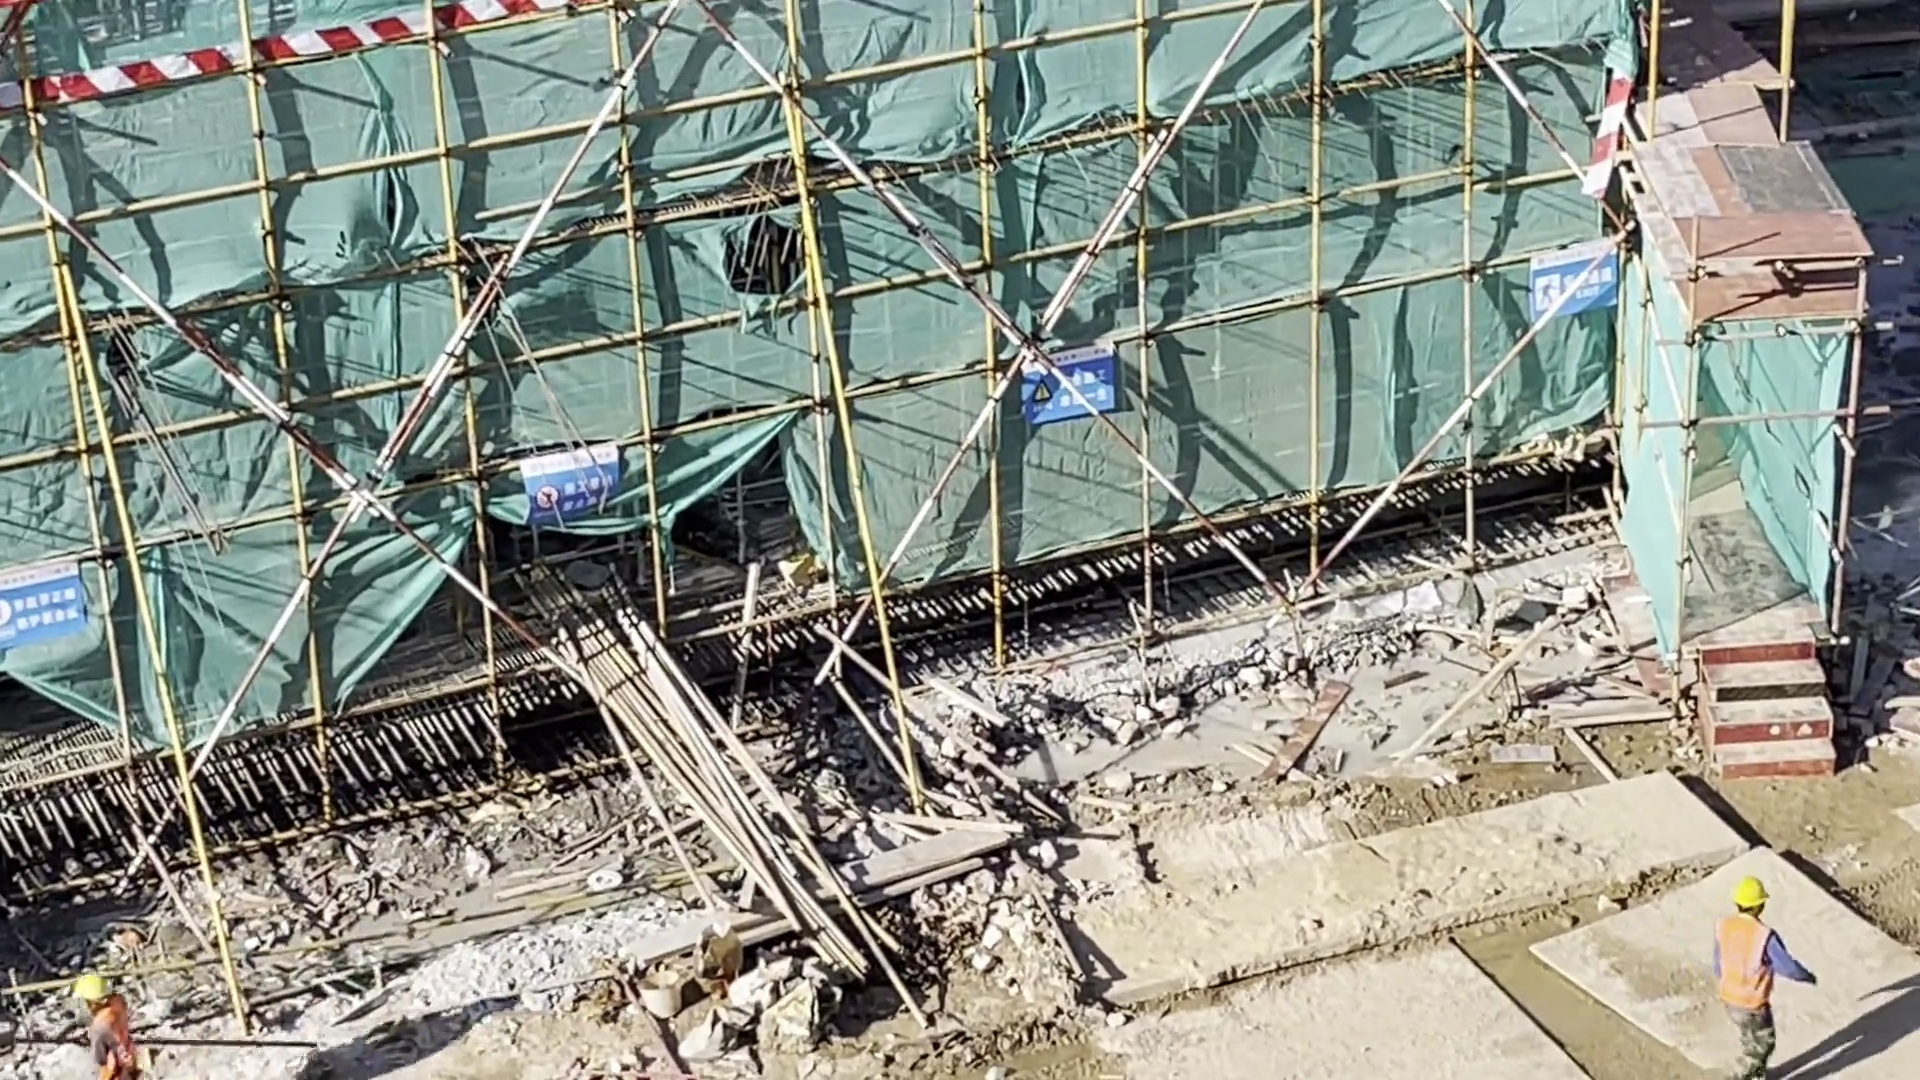helmet: (1719, 864, 1785, 920), (67, 958, 123, 1008)
person: (1696, 860, 1831, 1080), (54, 967, 174, 1080)
slogan: (1004, 331, 1146, 427), (1503, 234, 1647, 328), (500, 432, 633, 531), (1, 559, 118, 650)
vest: (1704, 913, 1788, 1013), (89, 1000, 141, 1078)
